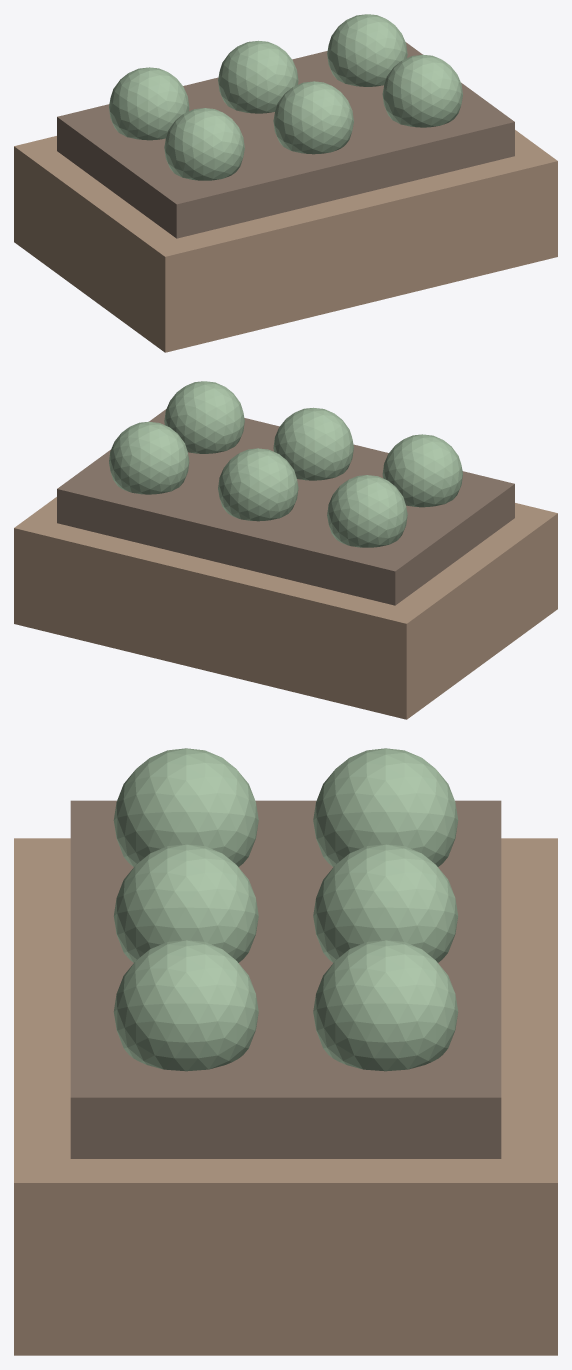
The model's file is garden_planter.glb.
3 views of the same model, one above another, from view 1: azimuth 30°, elevation 25°; view 2: azimuth 150°, elevation 25°; view 3: azimuth 270°, elevation 25° (orthographic). The views are drawn at different scales.
Visible parts, largest first — view 1: part_00, part_01, part_03, part_07, part_05, part_04, part_02, part_06; view 2: part_00, part_01, part_02, part_06, part_04, part_05, part_03, part_07; view 3: part_00, part_01, part_06, part_07, part_02, part_03, part_04, part_05.
Boxes of the visible parts, x1,y1,x2,y2 form: part_00: (14,130,557,352); part_01: (57,42,514,238); part_03: (164,108,244,180); part_07: (382,54,462,127); part_05: (273,81,353,154); part_04: (218,40,298,113); part_02: (109,67,189,140); part_06: (327,14,407,86); part_00: (14,497,557,719); part_01: (57,409,514,605); part_02: (327,475,407,547); part_06: (109,421,189,494); part_04: (218,448,298,521); part_05: (273,407,353,480); part_03: (382,434,462,507); part_07: (164,381,244,453); part_00: (14,838,557,1355); part_01: (70,800,501,1158); part_06: (313,940,458,1071); part_07: (113,940,258,1071); part_02: (313,748,458,866); part_03: (113,748,258,866); part_04: (313,844,458,962); part_05: (113,844,258,962).
Bounding box in the file's own units: 1.8 × 0.81 × 1.2.
